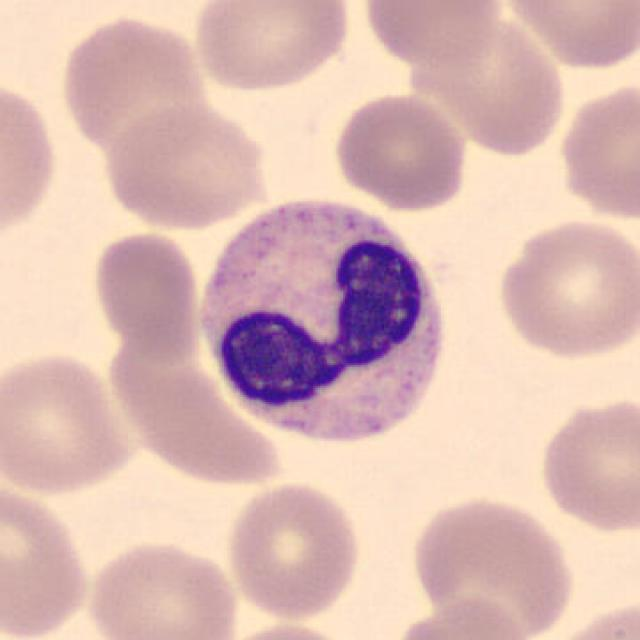Neutrophil: (188, 189, 458, 462)
RBC: (406, 492, 580, 640), (406, 18, 578, 156), (55, 10, 210, 157), (100, 100, 272, 232), (0, 346, 142, 499), (492, 215, 638, 363), (222, 478, 366, 624), (331, 88, 471, 213), (84, 534, 242, 640), (188, 0, 356, 95), (89, 228, 206, 362), (533, 390, 640, 536), (0, 478, 94, 640), (553, 76, 638, 222), (0, 74, 62, 247), (357, 0, 503, 71), (497, 0, 638, 72), (388, 596, 534, 640), (547, 594, 640, 640), (212, 619, 358, 640)
